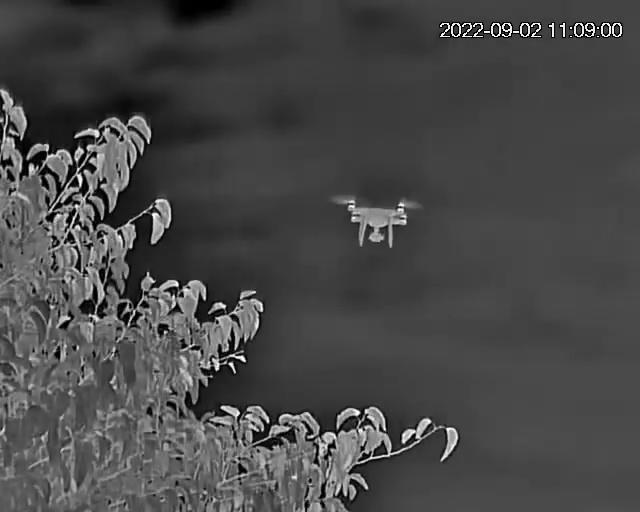DJI-Phantom: (330, 194, 420, 253)
